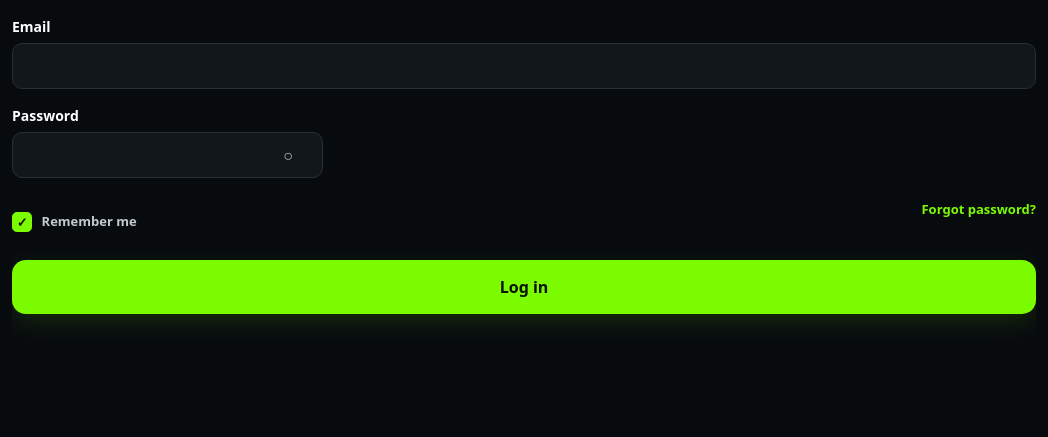
Test: AuthForm V2 › maps invalid credentials without raw backend text
Type "player@example.com" into the field labelled "Email" at (524, 66), box [13,44,1035,88]
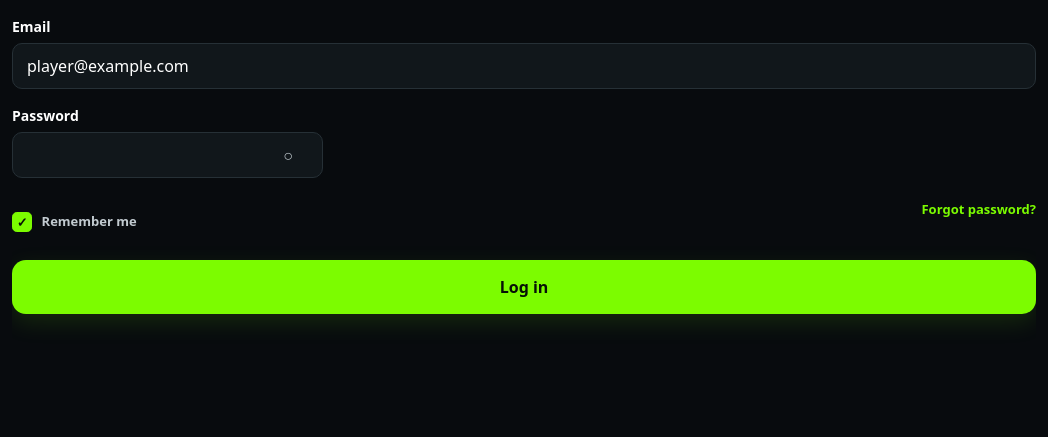
Type "password1" into the password field labelled "Password" at (140, 155), box [13,133,266,177]
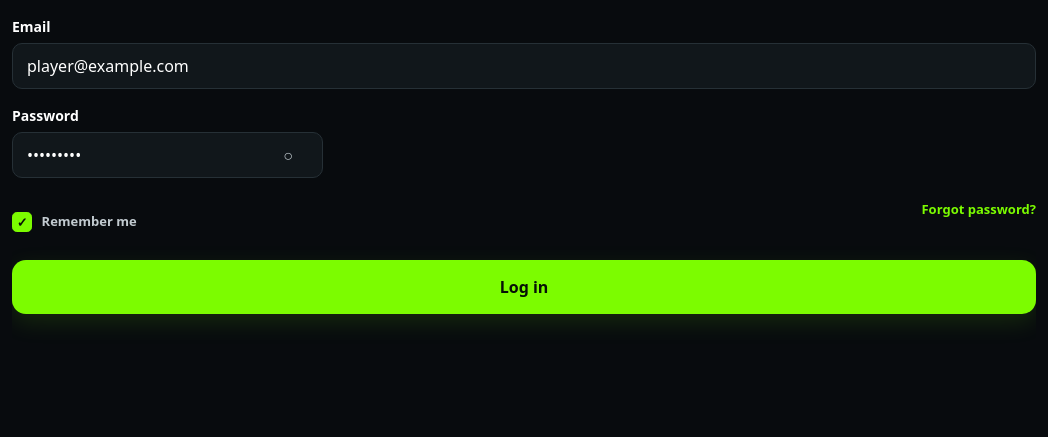
Submit the form
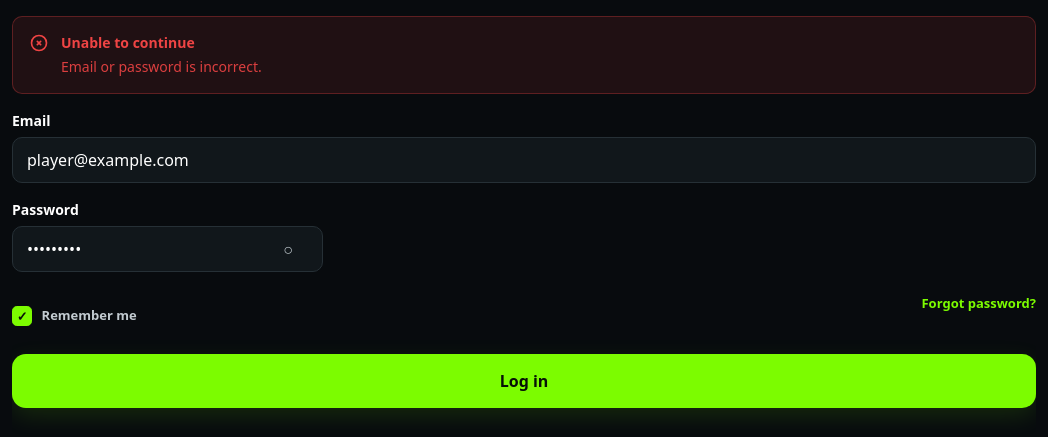
Result: the message shows "Email or password is incorrect." at [61,57,262,76]
